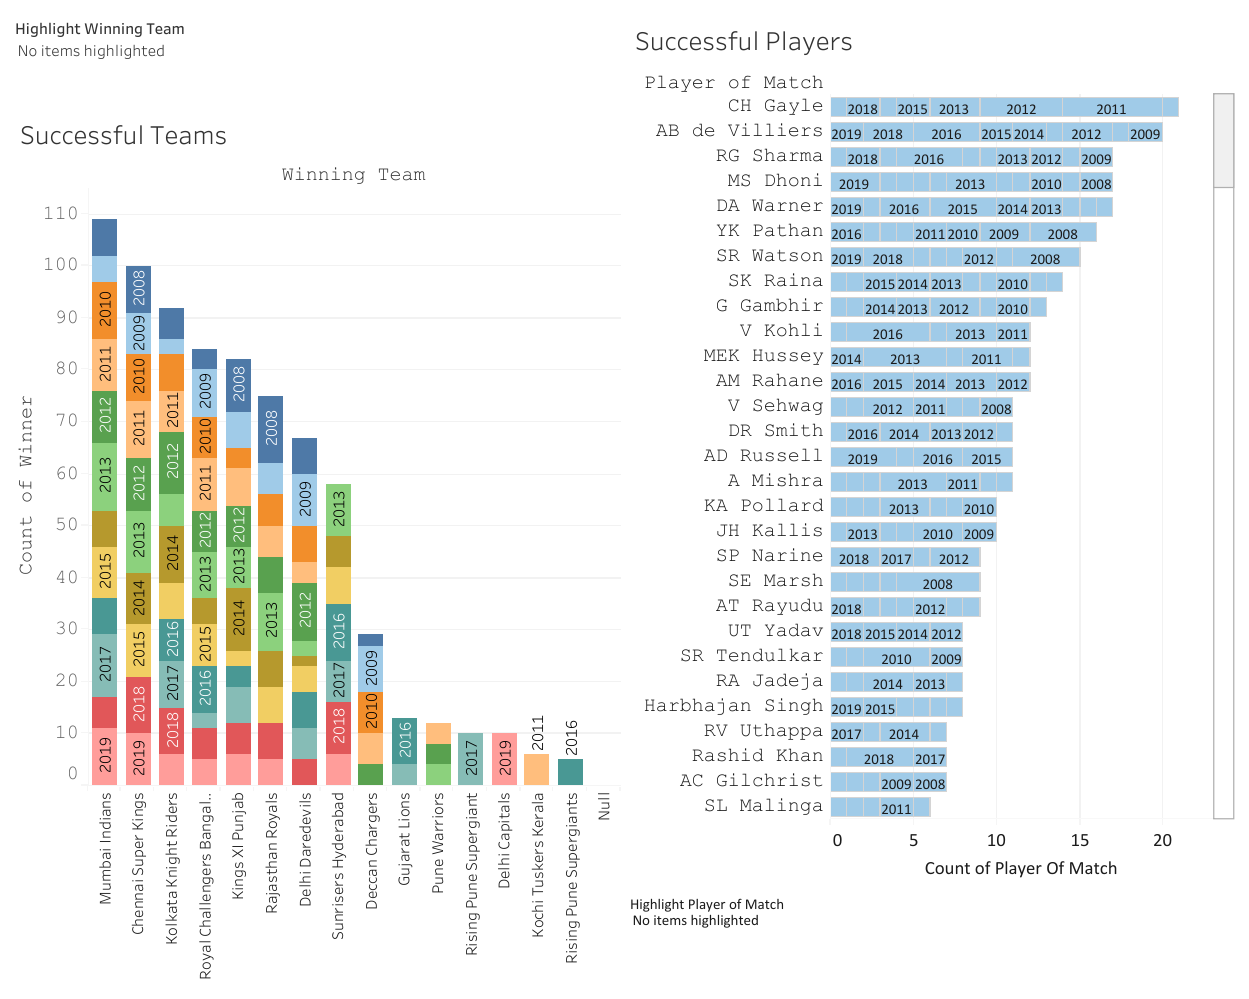

Layout of this report page (visuals, bound fields, positions):
{"tool":"tableau","page":{"name":"Dashboard 3","canvas":[1000,800],"ordinal":0},"visuals":[{"type":"highlighter","title":"Successful Teams","param":"[federated.1rxkar71xy2ch01adau261twjns6].[none:Winner (copy)_1139129280950468608","box":[8,8,492,75]},{"type":"worksheet","title":"Successful Players","mark":"Automatic","rows":["Player Of Match (copy)_1139129280957206529"],"cols":["player_of_match"],"box":[500,8,492,702]},{"type":"worksheet","title":"Successful Teams","mark":"Automatic","rows":["winner"],"cols":["Winner (copy)_1139129280950468608"],"box":[8,83,492,709]},{"type":"highlighter","title":"Successful Players","param":"[federated.1rxkar71xy2ch01adau261twjns6].[none:Player Of Match (copy)_1139129280","box":[500,710,492,50]}]}

Visuals, with their boxes in screenshot pixels (x1, y1, x2, y2), scaled from the page's 1000x800 canvas onto the 1249x999 screenshot:
"Successful Teams" highlighter: l=10, t=10, r=624, b=104
"Successful Players" worksheet: l=624, t=10, r=1239, b=887
"Successful Teams" worksheet: l=10, t=104, r=624, b=989
"Successful Players" highlighter: l=624, t=887, r=1239, b=949
